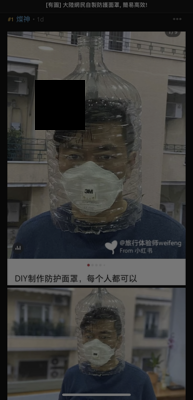with_mask: (59, 144, 125, 213), (82, 330, 118, 366)
